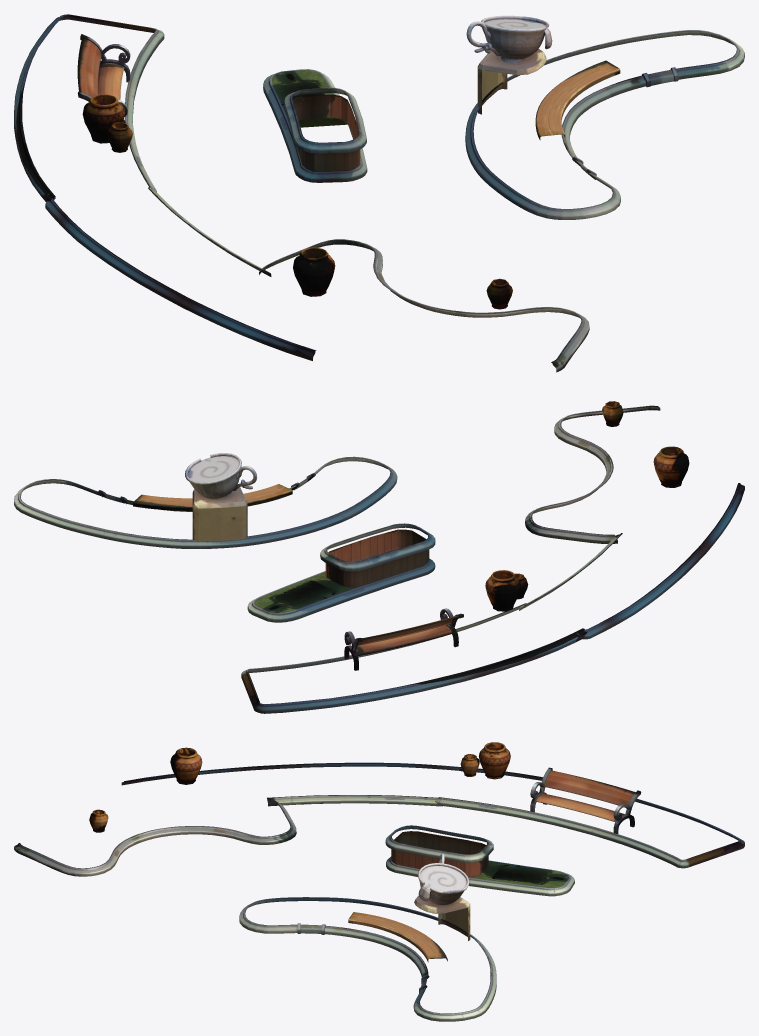
The model's file is pref_sm_garden_props_vray_009_lv0.fbx.
3 views of the same model, one above another, from view 1: azimuth 30°, elevation 25°; view 2: azimuth 150°, elevation 25°; view 3: azimuth 270°, elevation 25° (orthographic). The views are drawn at different scales.
Visible parts, largest first — view 1: sm_garden_props_vray_009_lv0; view 2: sm_garden_props_vray_009_lv0; view 3: sm_garden_props_vray_009_lv0.
Boxes of the visible parts, x1,y1,x2,y2 form: sm_garden_props_vray_009_lv0: (14,14,744,372); sm_garden_props_vray_009_lv0: (14,401,744,713); sm_garden_props_vray_009_lv0: (14,742,744,1021).
Bounding box in the file's own units: 24.78 × 3.19 × 29.99.
